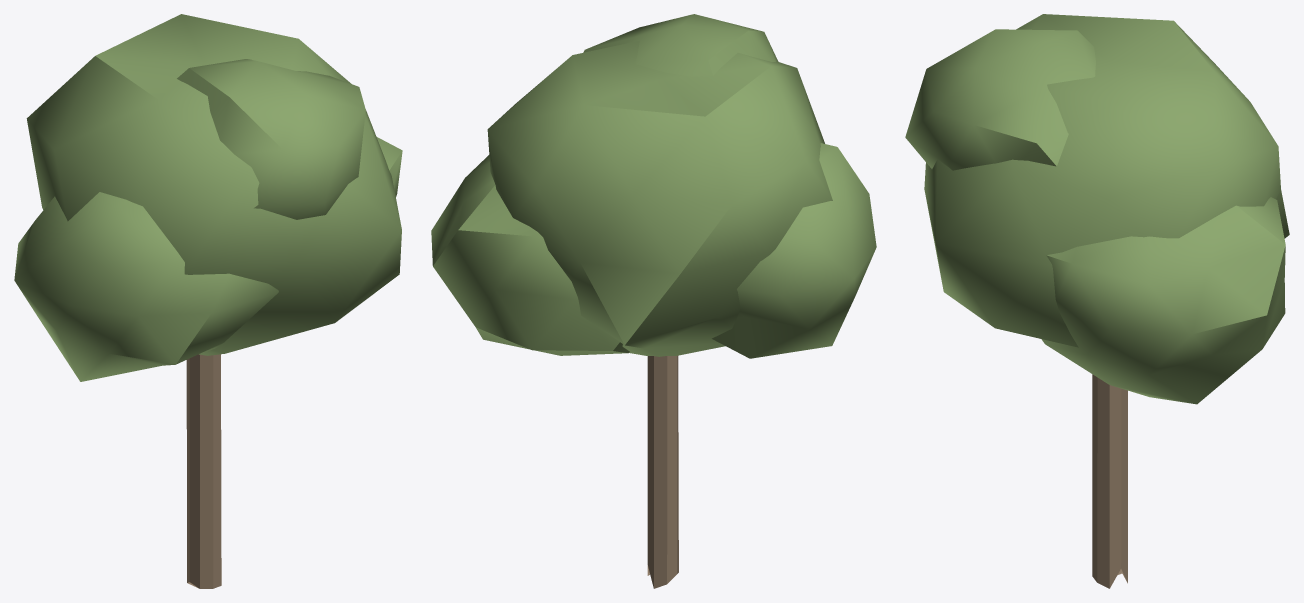
The model's file is tree_broadleaf.glb.
3 renders of one model, left to right at view 1: azimuth 30°, elevation 25°; view 2: azimuth 150°, elevation 25°; view 3: azimuth 270°, elevation 25°, orthographic. The views are drawn at different scales.
Parts seen in each view (by area): view 1: Canopy0, Canopy2, Canopy3, Trunk, Canopy1; view 2: Canopy0, Canopy1, Canopy2, Trunk, Canopy3; view 3: Canopy0, Canopy1, Canopy3, Trunk.
Boxes of the visible parts, left/top/right/bottom form: Canopy0: left=26, top=14, right=401, bottom=355; Canopy2: left=14, top=192, right=278, bottom=381; Canopy3: left=177, top=59, right=365, bottom=219; Trunk: left=186, top=354, right=221, bottom=588; Canopy1: left=376, top=137, right=402, bottom=196; Canopy0: left=487, top=40, right=832, bottom=356; Canopy1: left=431, top=155, right=629, bottom=355; Canopy2: left=712, top=143, right=876, bottom=358; Trunk: left=647, top=355, right=678, bottom=588; Canopy3: left=583, top=14, right=778, bottom=76; Canopy0: left=924, top=14, right=1289, bottom=347; Canopy1: left=1041, top=197, right=1285, bottom=404; Canopy3: left=905, top=29, right=1095, bottom=170; Trunk: left=1092, top=374, right=1127, bottom=588.
Bounding box in the file's own units: 6.85 × 9.12 × 5.8.
